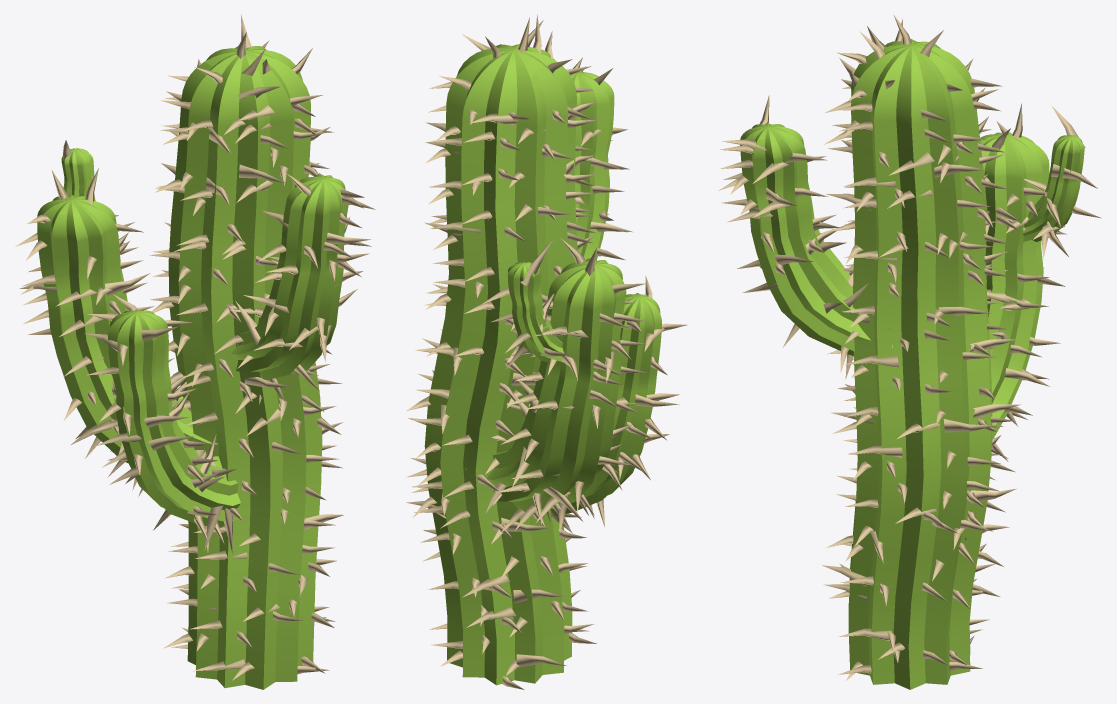
File: LCactus3.fbx
3 views of the same model, side by side, from view 1: azimuth 30°, elevation 25°; view 2: azimuth 150°, elevation 25°; view 3: azimuth 270°, elevation 25° (orthographic).
Visible parts, largest first — view 1: LCactus3; view 2: LCactus3; view 3: LCactus3.
Part boxes in pixels (left/top/right/bottom): LCactus3: left=15, top=14, right=375, bottom=689; LCactus3: left=406, top=15, right=687, bottom=689; LCactus3: left=718, top=15, right=1101, bottom=689.
Bounding box in the file's own units: 209 × 480 × 259.
